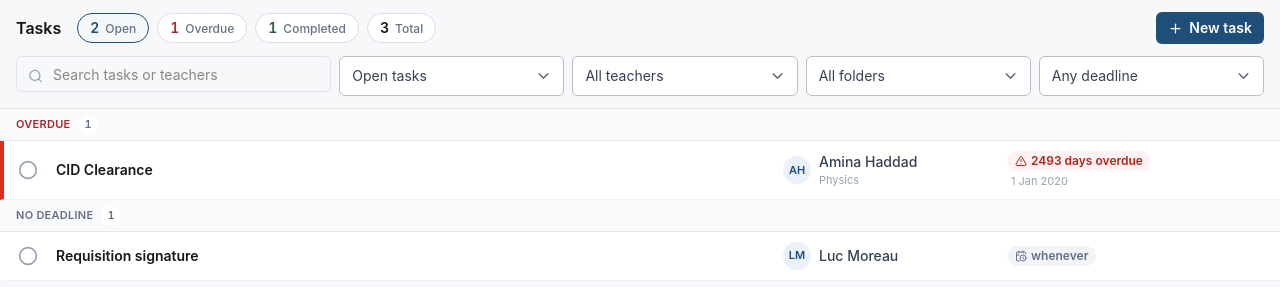
TasksOverview › uses the Overdue card as an urgency filter
The width and height of the screenshot is (1280, 287).
Click the button "1 Overdue".
click(202, 28)  # box [157,13,247,43]
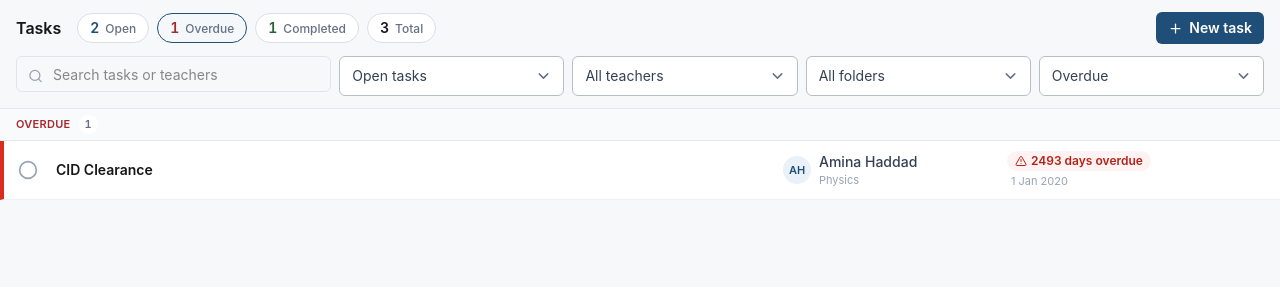
Expected: the text "CID Clearance" is shown, [56,161,153,178]
Result: the text "Requisition signature" is gone
